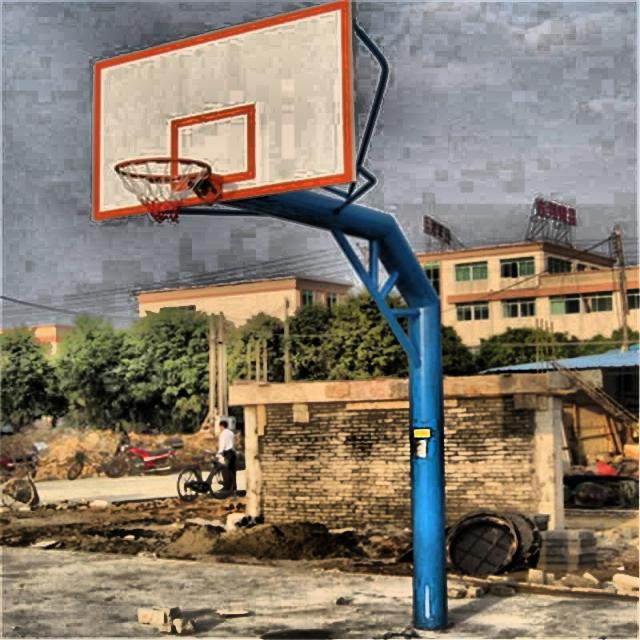rim: (114, 157, 210, 223)
